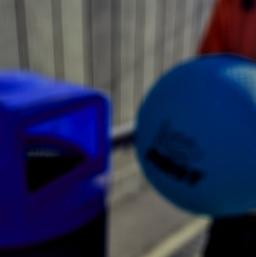algae: (131, 50, 256, 214)
